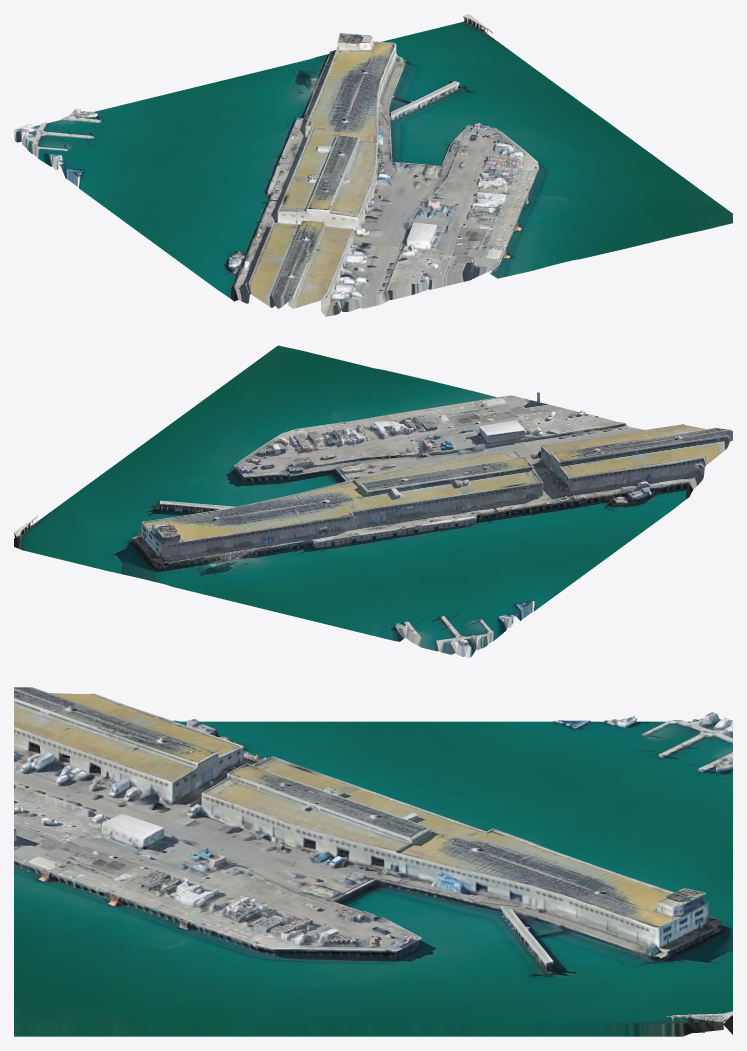
File: z17-20964-50645-h0-yup-uvflip-v3-world.glb
3 views of the same model, one above another, from view 1: azimuth 30°, elevation 25°; view 2: azimuth 150°, elevation 25°; view 3: azimuth 270°, elevation 25° (orthographic). The views are drawn at different scales.
Bounding box in the file's own units: 241 × 19.2 × 243.
1 material, 1 textured.
